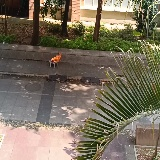fire: (51, 52, 61, 62)
